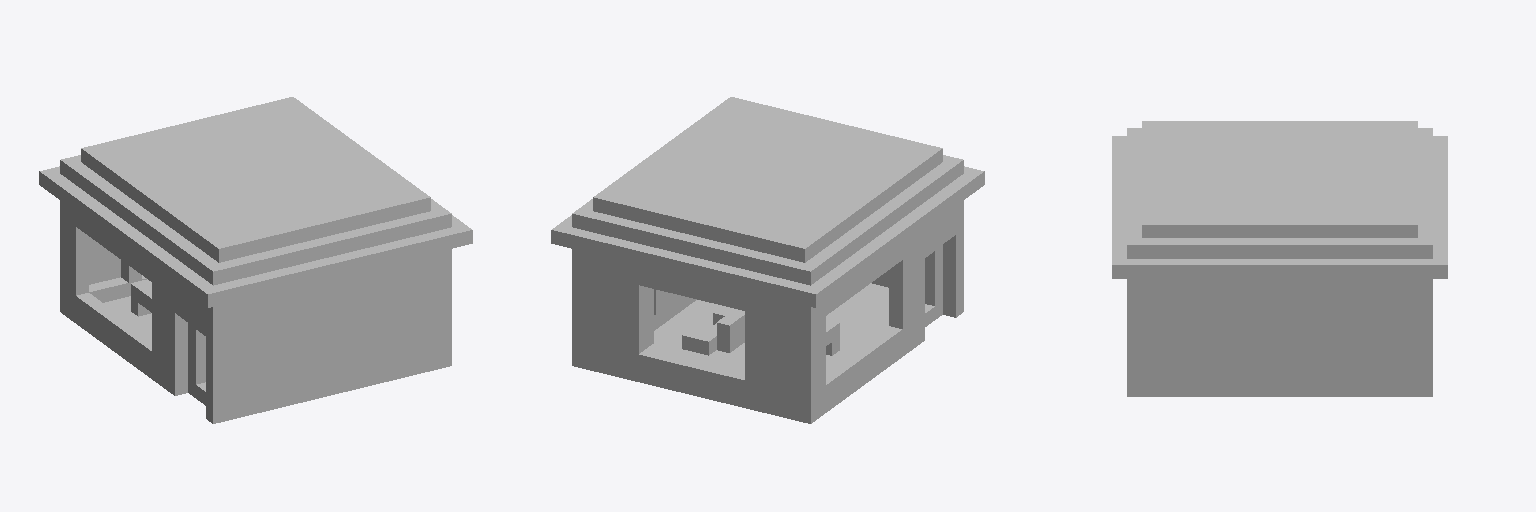
The model's file is house.obj.
The picture shows the model from 3 angles: view 1: azimuth 30°, elevation 25°; view 2: azimuth 150°, elevation 25°; view 3: azimuth 270°, elevation 25°; orthographic projection.
Visible parts, largest first — view 1: object 1; view 2: object 1; view 3: object 1.
Boxes of the visible parts, <box> form: object 1: <box>39,97,472,423</box>; object 1: <box>551,97,984,423</box>; object 1: <box>1112,121,1447,396</box>.
Size of the model in its own units: 2 by 1.2 by 2.2.